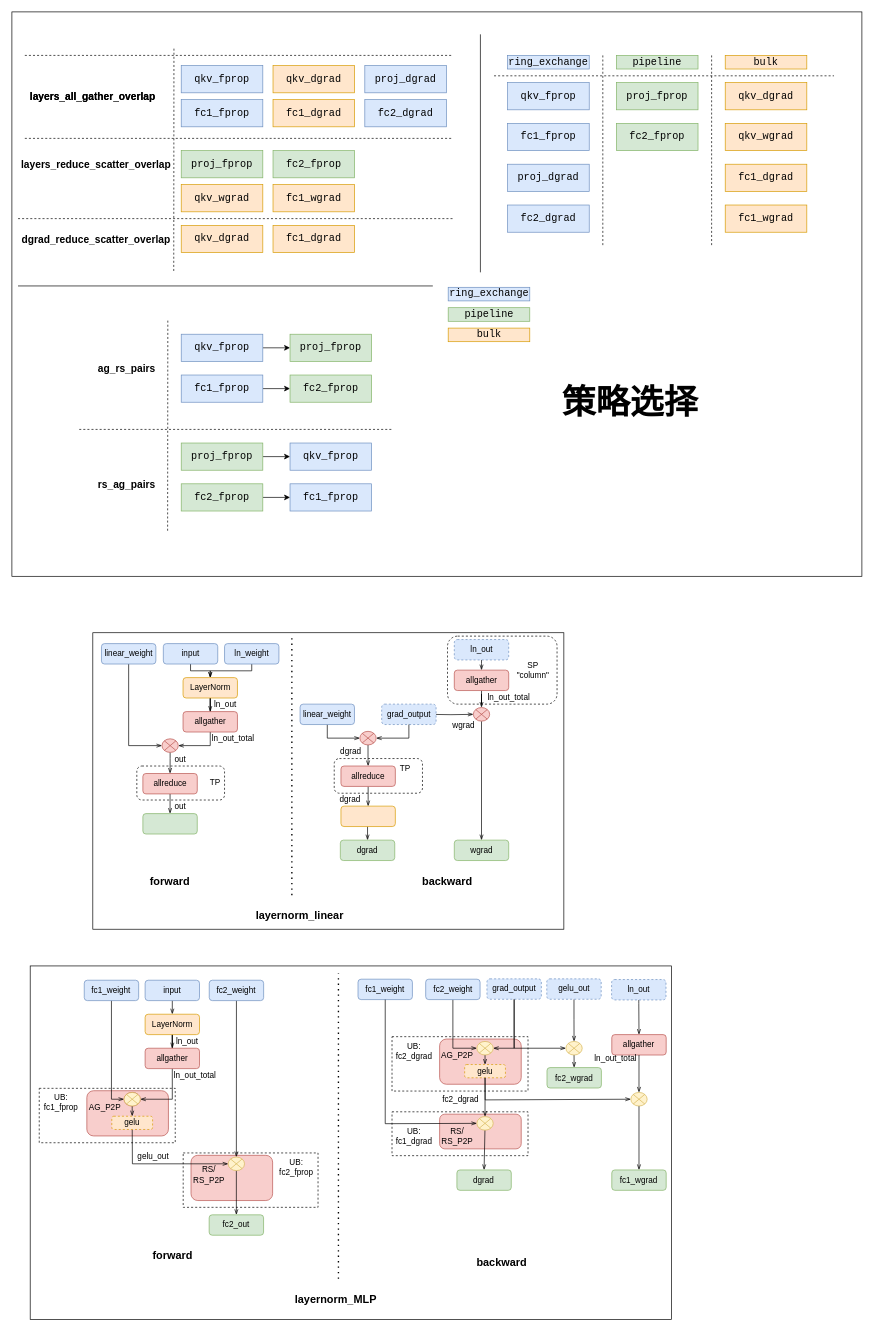
Some shapes in this 874 by 1331 pixel diagram are drawn without their labels. The shapes that lost their labels are listed below. From the top down, each one's centre as x and y in pixels, then its label:
[169,823]: output
[367,816]: LayerNorm bwd
